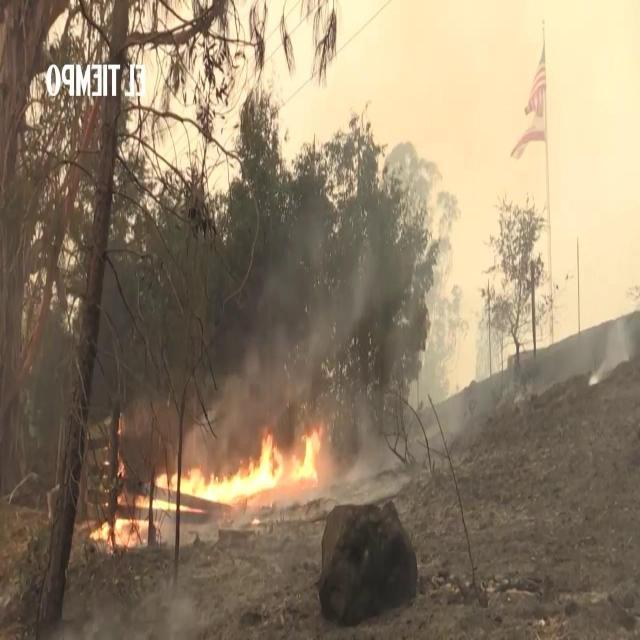Fire: (157, 424, 327, 498), (91, 511, 149, 547)
